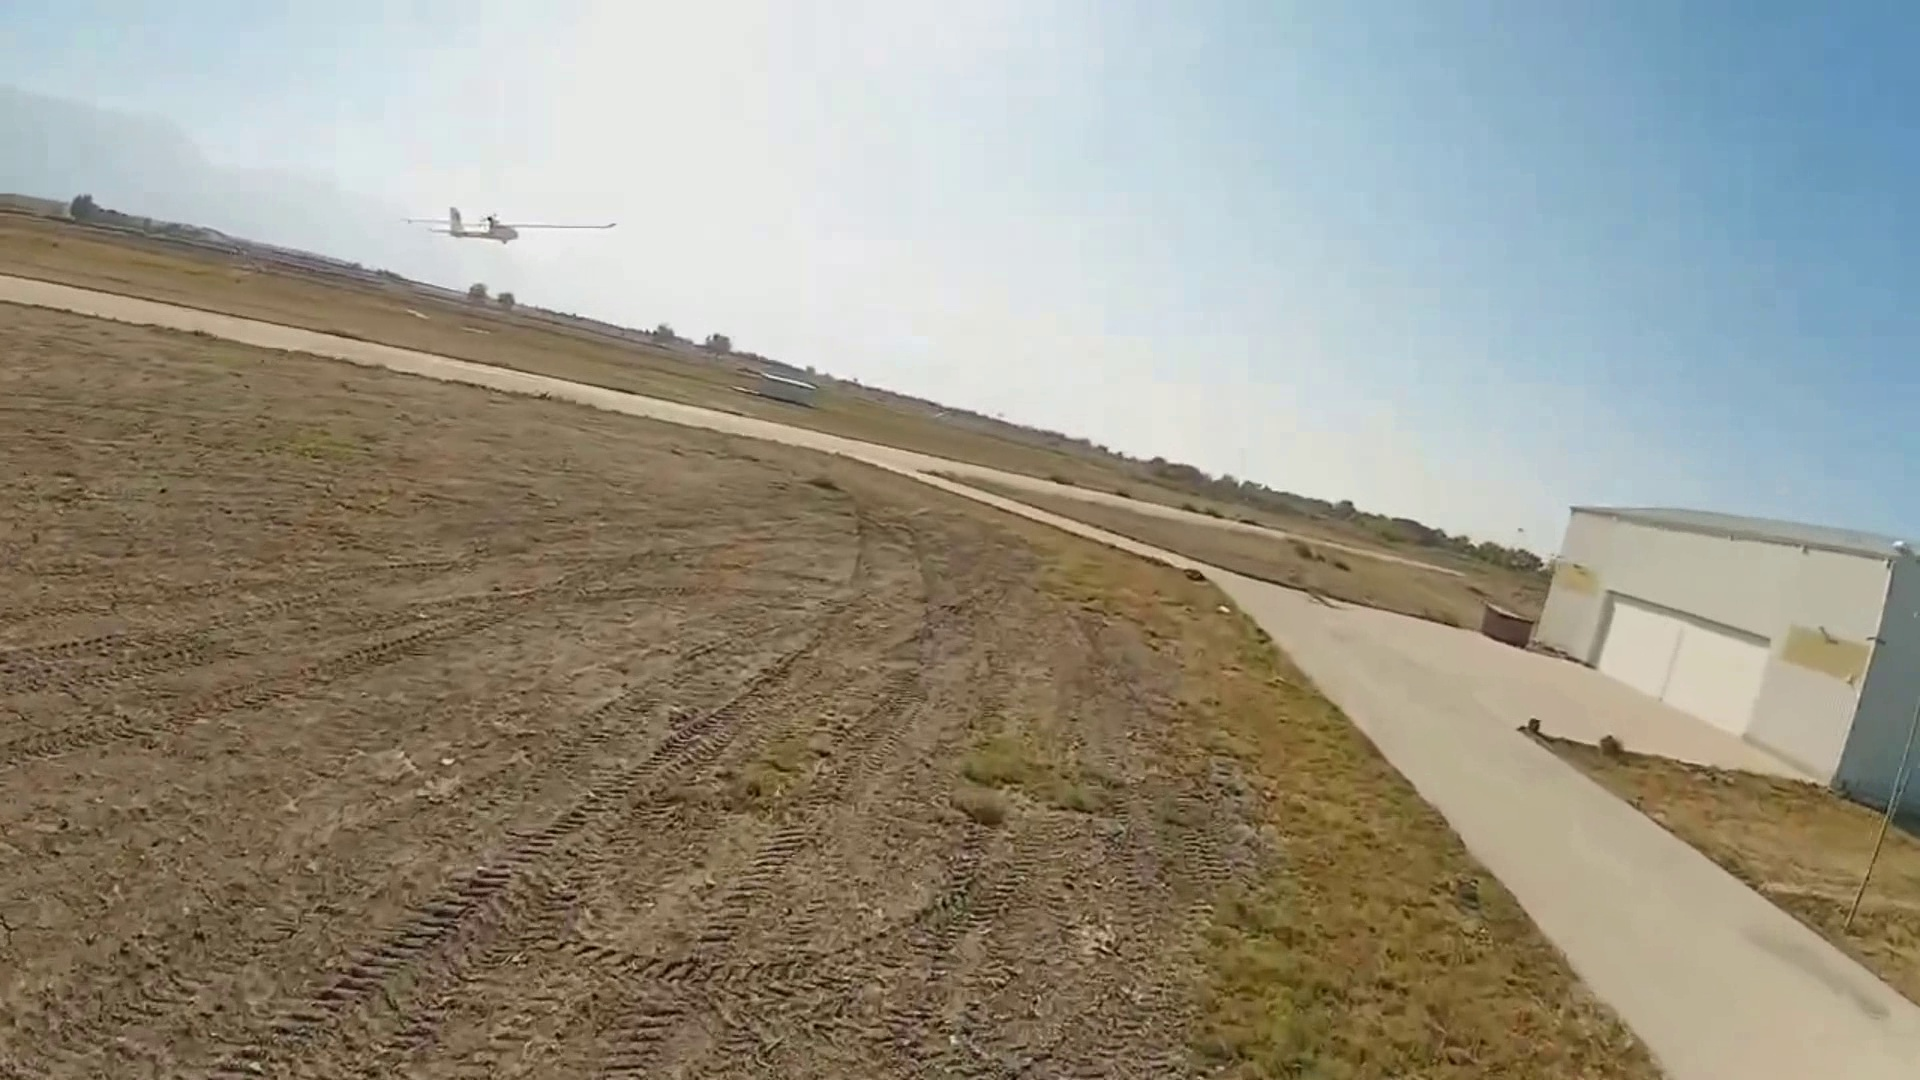airplane: (413, 204, 618, 243)
